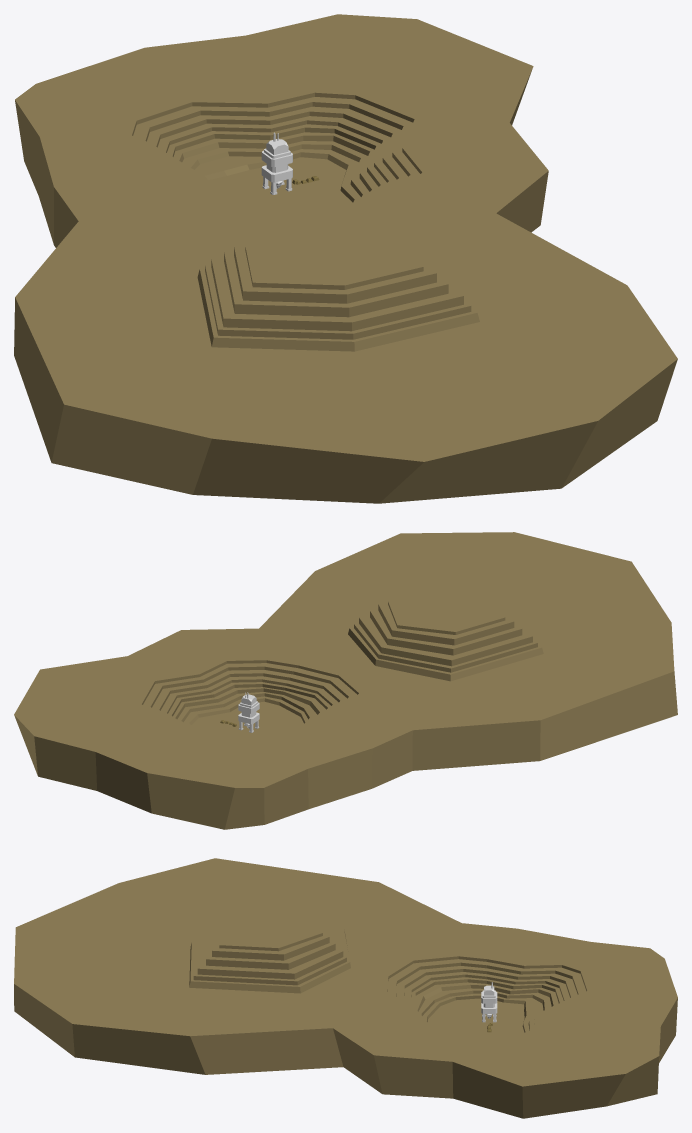
The model's file is Open_Mine.fbx.
3 renders of one model, top to bottom at view 1: azimuth 30°, elevation 25°; view 2: azimuth 150°, elevation 25°; view 3: azimuth 270°, elevation 25°, orthographic. The views are drawn at different scales.
Visible parts, largest first — view 1: Mine, Drill_Machine; view 2: Mine, Drill_Machine; view 3: Mine, Drill_Machine.
Part boxes in pixels (x1,y1,x2,y2): Mine: (14, 14, 677, 503); Drill_Machine: (261, 139, 292, 194); Mine: (14, 532, 677, 829); Drill_Machine: (238, 694, 259, 732); Mine: (14, 858, 677, 1118); Drill_Machine: (481, 985, 497, 1022).
Size of the model in its own units: 894 by 128 by 1084.
